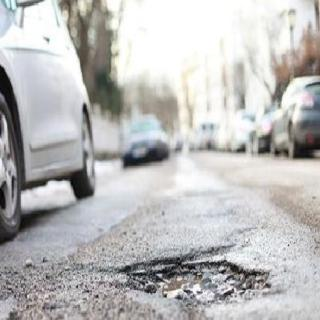pothole: (124, 245, 271, 304)
